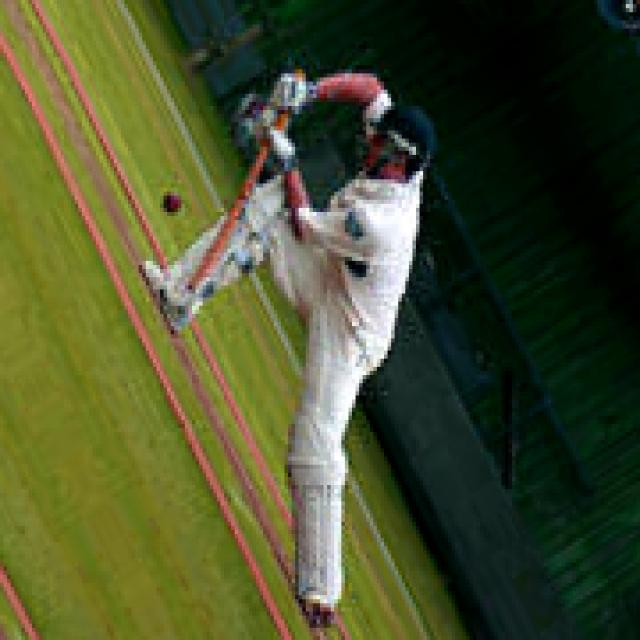toe: (172, 240, 224, 305)
